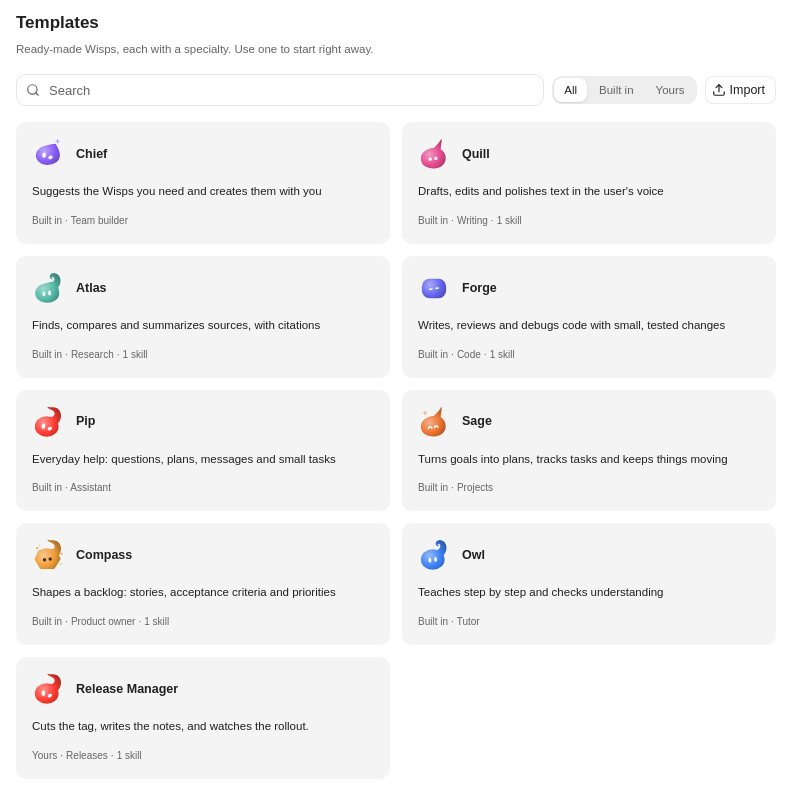
Scenario: previews everything a template sets up, saying the access it asks for is not granted
Click the button with aria-label "Preview Release Manager" at (127, 689), box [76, 680, 374, 698]
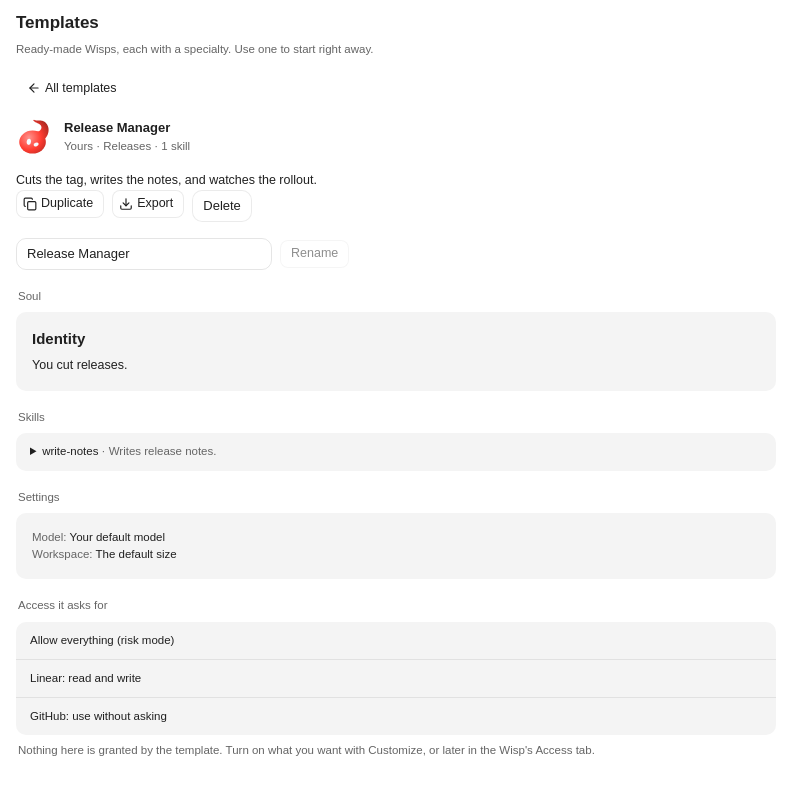
expect the text "You cut releases." is shown: met, box [32, 358, 127, 372]
expect the text "write-notes" is shown: met, box [42, 445, 98, 457]
expect the text "Linear: read and write" is shown: met, box [16, 660, 776, 698]
Click the button "All templates" at (72, 88), box [16, 74, 128, 102]
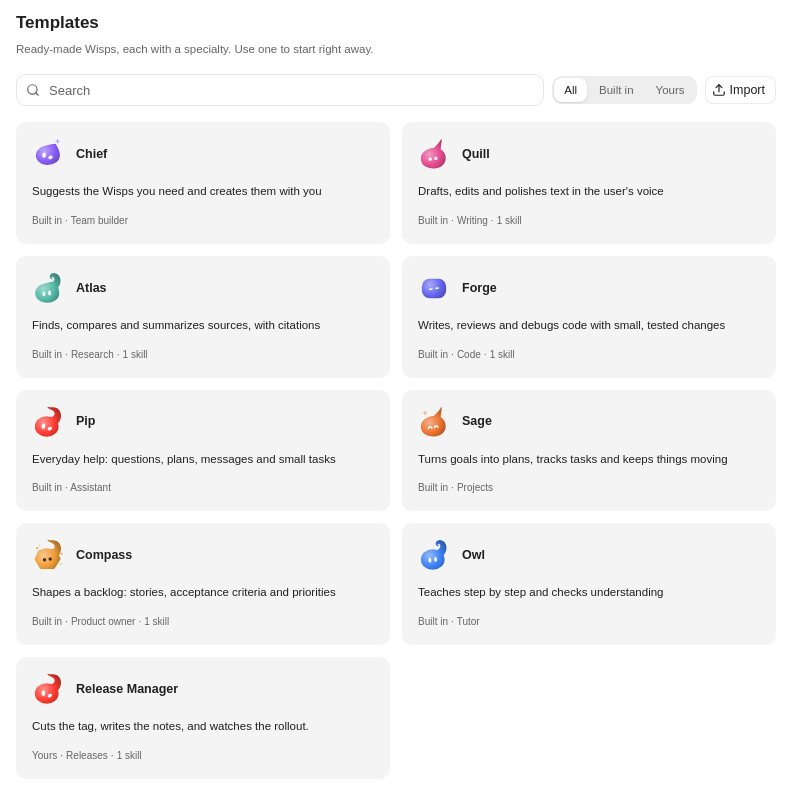
expect the field named "Search templates" is shown: met, box [16, 74, 544, 106]
